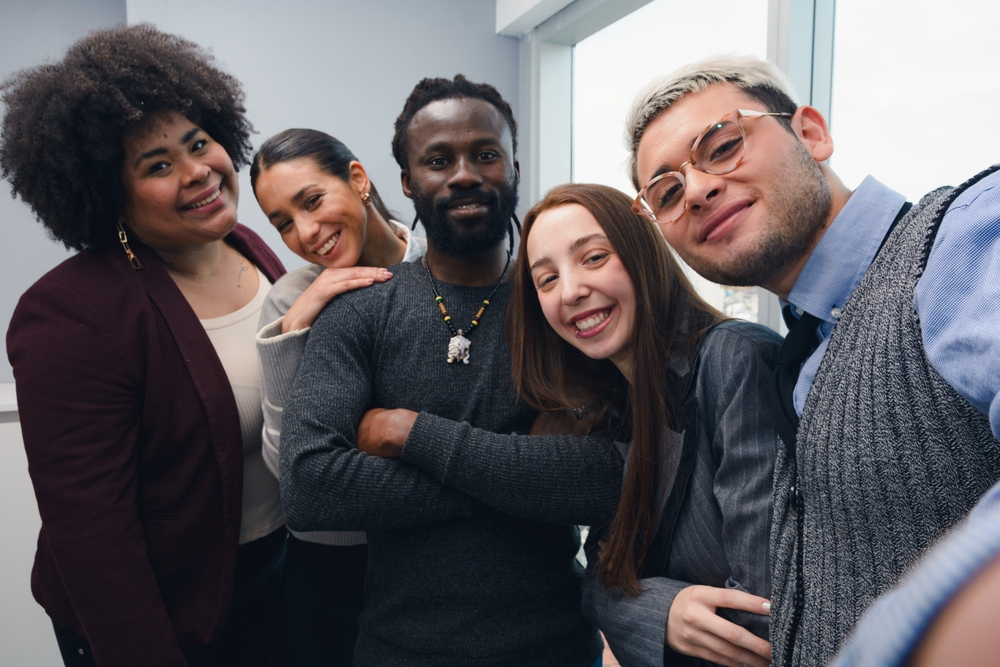person: (623, 53, 998, 664), (275, 72, 624, 664), (2, 22, 288, 664), (508, 181, 790, 665), (249, 125, 428, 664)
